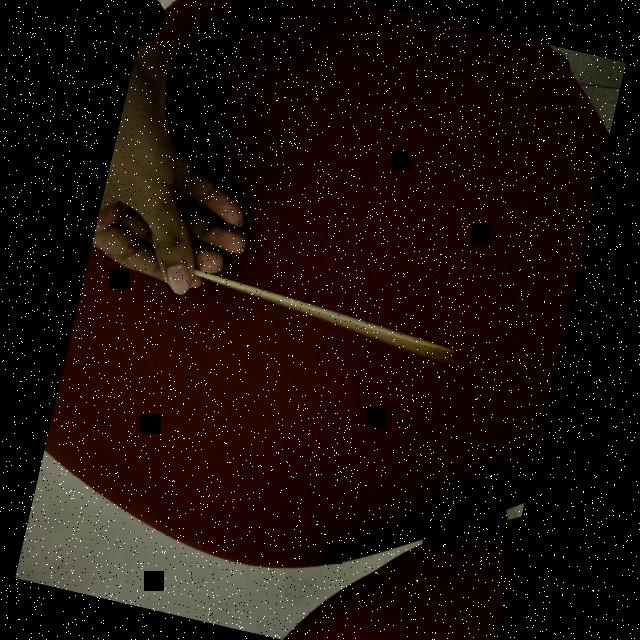stick: (184, 266, 466, 366)
